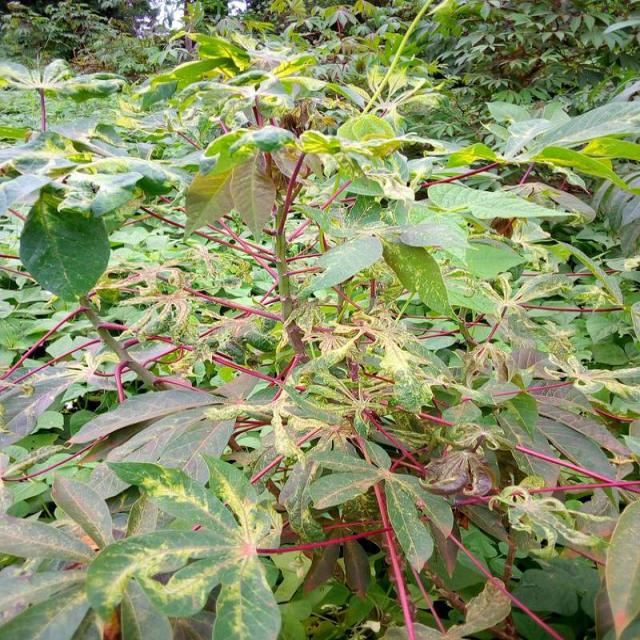cassava leaf: (1, 2, 638, 638), (84, 452, 282, 638), (182, 123, 294, 243), (19, 182, 110, 302)
